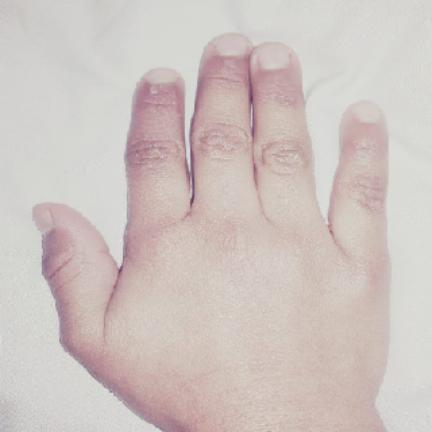Nail: (256, 42, 290, 69), (217, 34, 251, 56), (352, 101, 384, 123), (33, 203, 54, 235), (145, 68, 176, 83)
